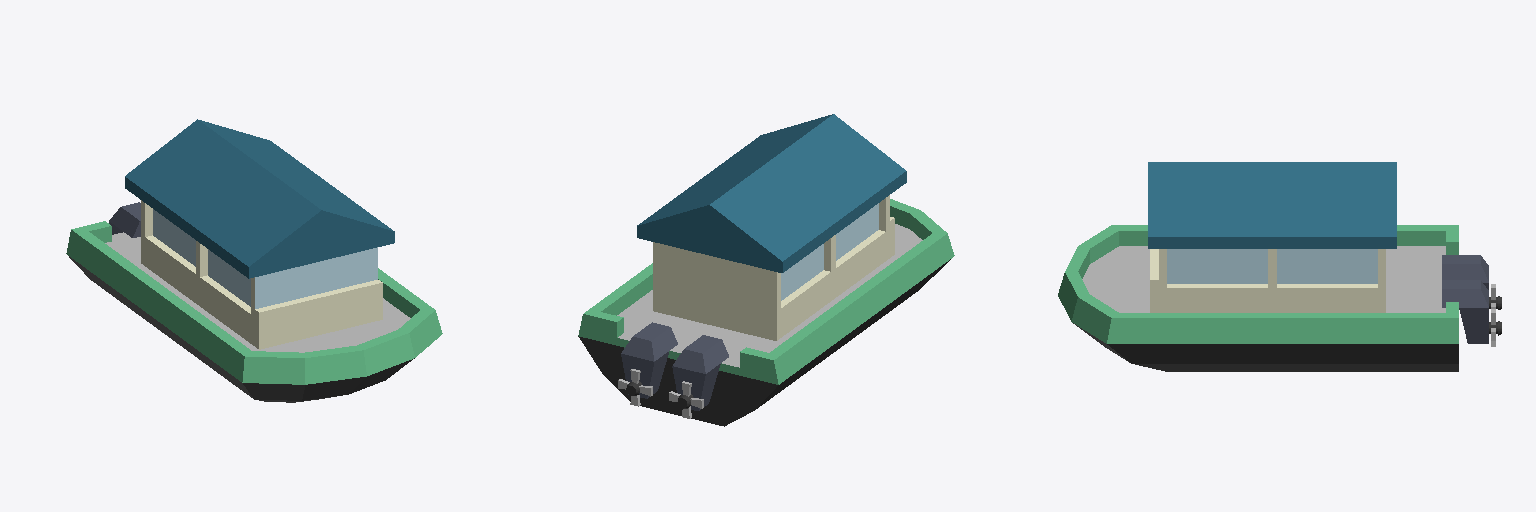
The model's file is watercraftPack_001.obj.
3 renders of one model, left to right at view 1: azimuth 30°, elevation 25°; view 2: azimuth 150°, elevation 25°; view 3: azimuth 270°, elevation 25°, orthographic.
Visible parts, largest first — view 1: Mesh5 Group1 Model, Mesh2 Group3 Group1 Model; view 2: Mesh5 Group1 Model, Mesh1 Group2 Group1 Model, Mesh2 Group3 Group1 Model; view 3: Mesh5 Group1 Model, Mesh1 Group2 Group1 Model, Mesh2 Group3 Group1 Model.
Boxes of the visible parts, x1,y1,x2,y2 form: Mesh5 Group1 Model: [66, 119, 442, 402]; Mesh2 Group3 Group1 Model: [109, 202, 140, 237]; Mesh5 Group1 Model: [578, 114, 954, 426]; Mesh1 Group2 Group1 Model: [621, 322, 677, 398]; Mesh2 Group3 Group1 Model: [672, 335, 728, 410]; Mesh5 Group1 Model: [1058, 162, 1458, 371]; Mesh1 Group2 Group1 Model: [1442, 280, 1501, 343]; Mesh2 Group3 Group1 Model: [1442, 255, 1501, 309].
Bounding box in the file's own units: 2.68 × 2.4 × 5.14.